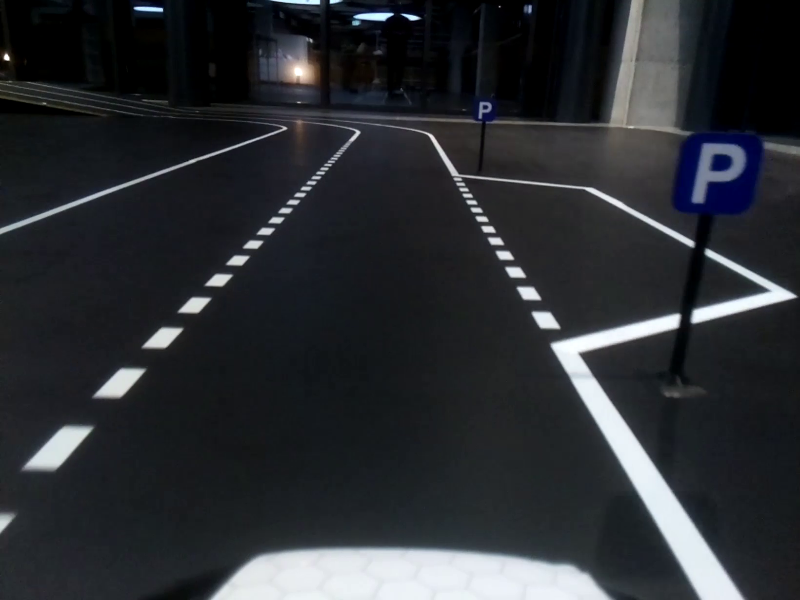park: (672, 129, 761, 217)
